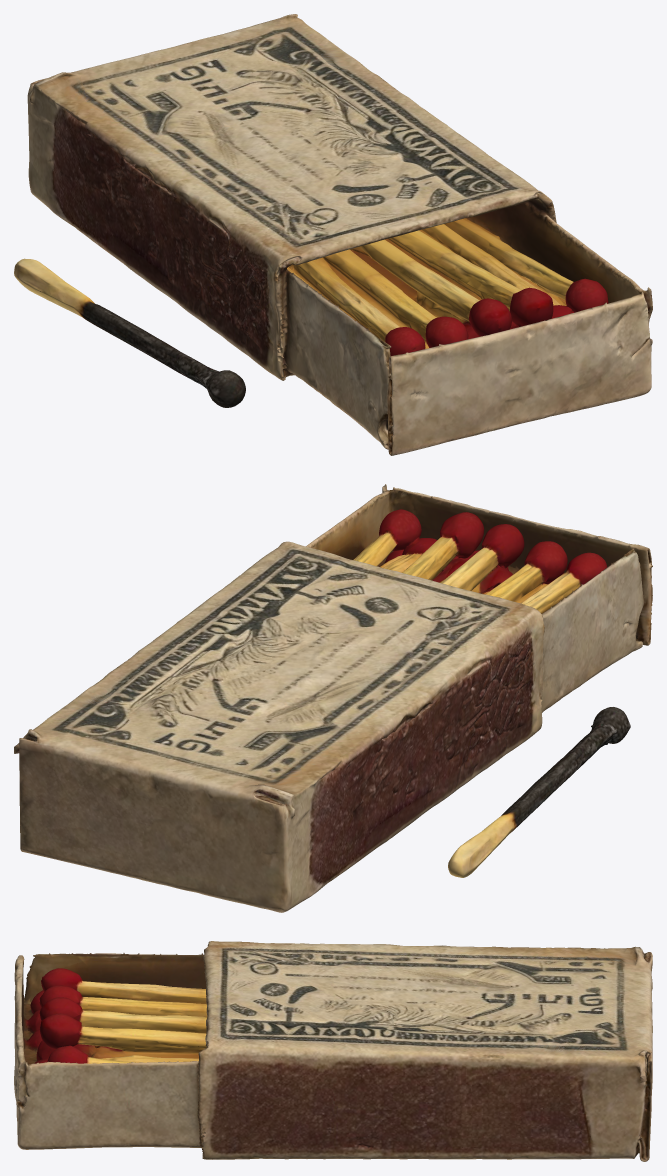
File: matchbox.glb
The picture shows the model from 3 angles, top to bottom: view 1: azimuth 30°, elevation 25°; view 2: azimuth 150°, elevation 25°; view 3: azimuth 270°, elevation 25°; orthographic projection. The views are drawn at different scales.
Parts seen in each view (by area): view 1: tripo_node_9e8ddfdd-a1e0-4783-a0e5-d34108c0f558; view 2: tripo_node_9e8ddfdd-a1e0-4783-a0e5-d34108c0f558; view 3: tripo_node_9e8ddfdd-a1e0-4783-a0e5-d34108c0f558.
Boxes of the visible parts, x1,y1,x2,y2 form: tripo_node_9e8ddfdd-a1e0-4783-a0e5-d34108c0f558: [14, 14, 652, 455]; tripo_node_9e8ddfdd-a1e0-4783-a0e5-d34108c0f558: [14, 484, 652, 912]; tripo_node_9e8ddfdd-a1e0-4783-a0e5-d34108c0f558: [14, 941, 652, 1161].
Bounding box in the file's own units: 0.5888 × 0.2003 × 1.
1 material, 1 textured.
